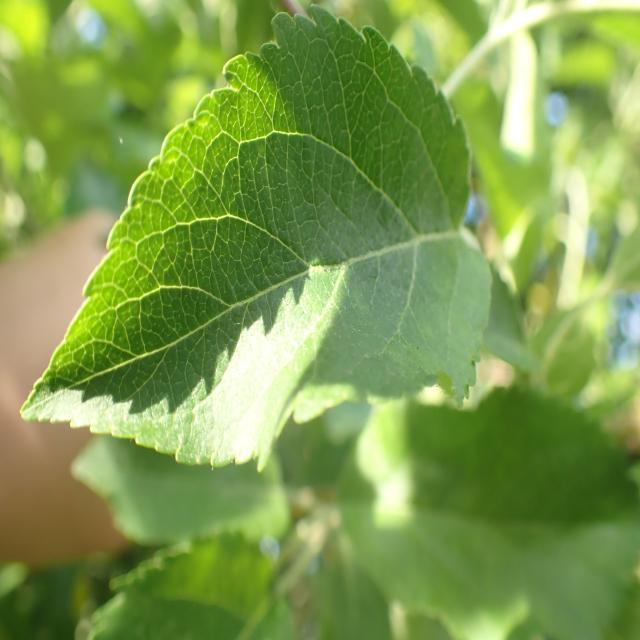healthy: (20, 6, 492, 472)
